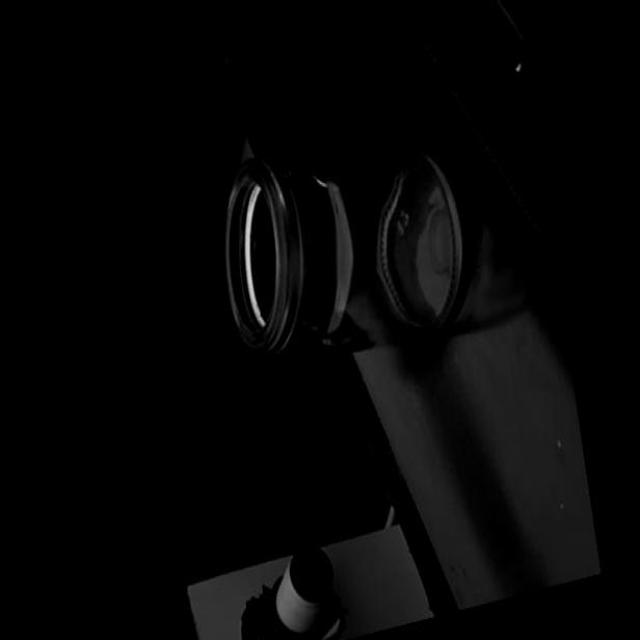defect: (311, 163, 331, 192)
glass: (213, 108, 474, 388)
